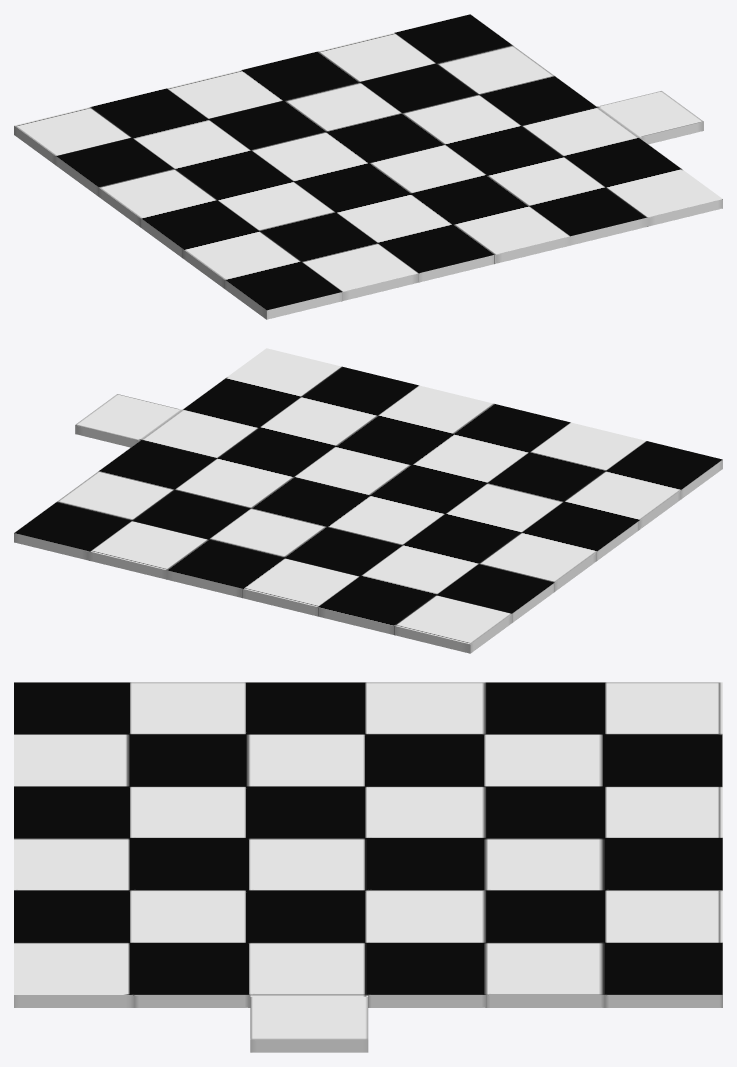
The model's file is Puzzle.fbx.
The picture shows the model from 3 angles, top to bottom: view 1: azimuth 30°, elevation 25°; view 2: azimuth 150°, elevation 25°; view 3: azimuth 270°, elevation 25°; orthographic projection. The views are drawn at different scales.
Parts seen in each view (by area): view 1: pCube49; view 2: pCube49; view 3: pCube49.
Boxes of the visible parts, x1=… form: pCube49: x1=14, y1=14, x2=722, y2=319; pCube49: x1=14, y1=348, x2=722, y2=653; pCube49: x1=14, y1=682, x2=722, y2=1052.
Size of the model in its own units: 18.2 by 0.3115 by 15.27.
1 material, 1 textured.
